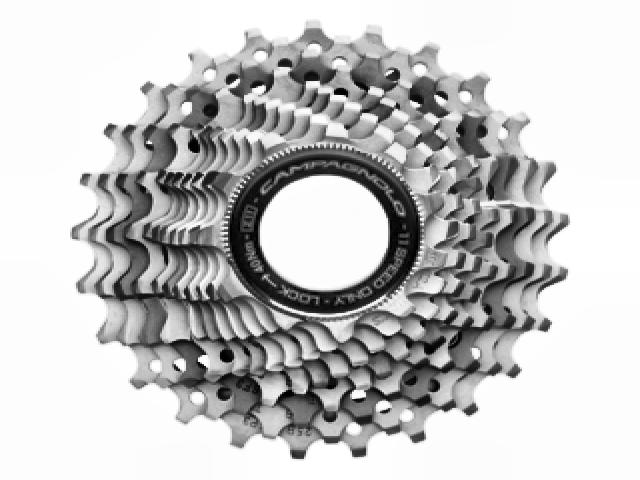cassette: (69, 17, 577, 459)
